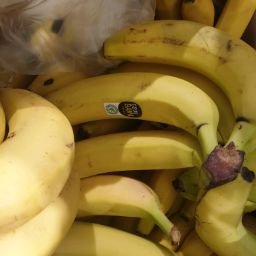Bannana: (66, 13, 256, 256), (46, 60, 248, 256), (1, 76, 83, 256)
